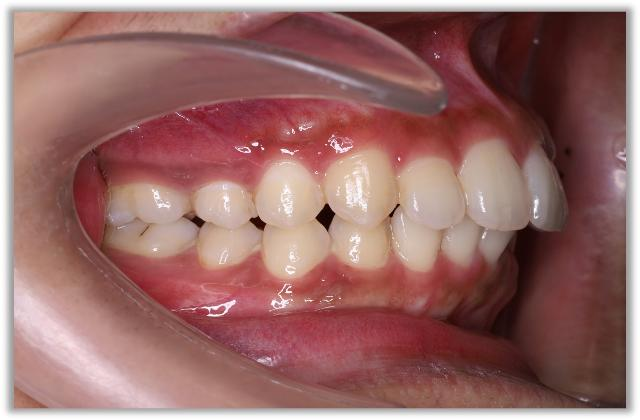canine class II 1/2: (261, 149, 399, 285)
molar class II 1/2: (100, 181, 198, 263)
